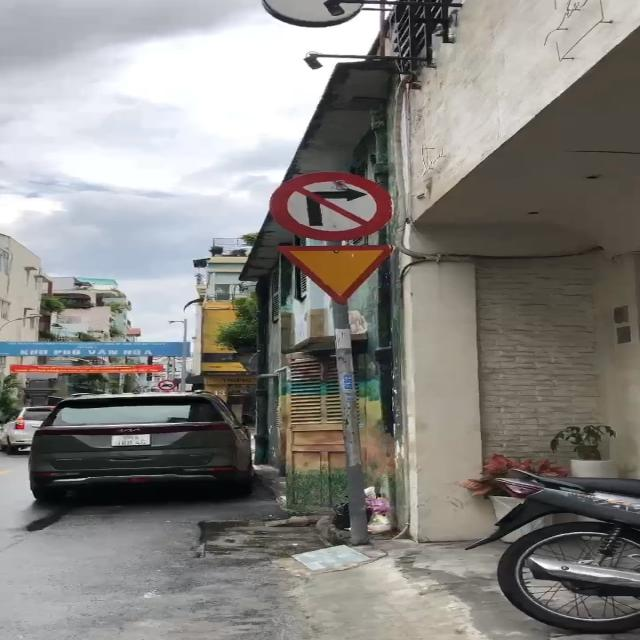Bien bao cam re phai: (264, 166, 409, 242)
Bien bao giao nhau voi duong uu tien: (270, 242, 402, 304)
